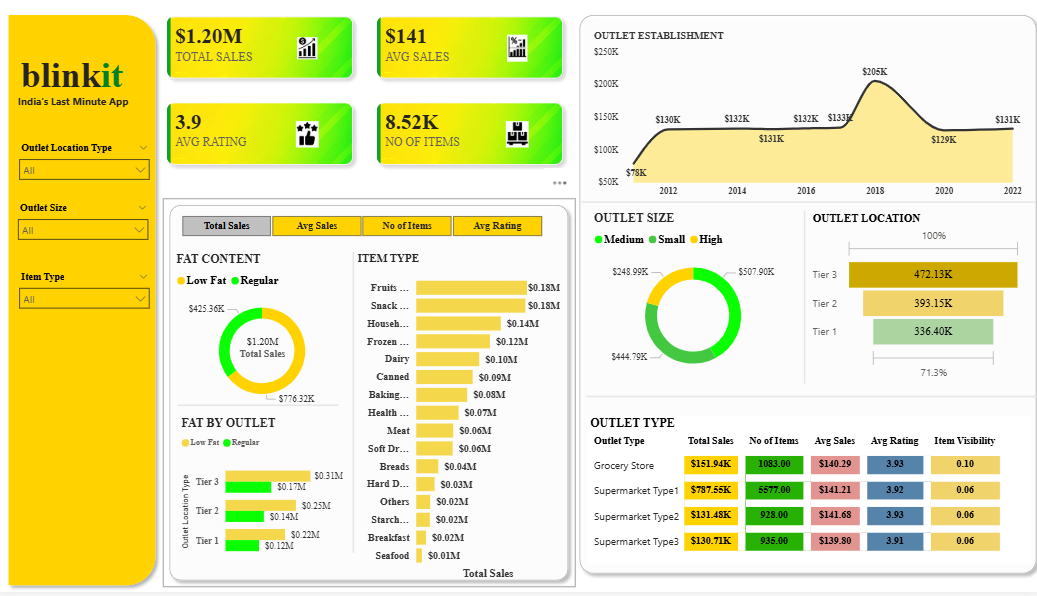

This screenshot's page, from the dashboard's own definition file:
{"tool":"powerbi","page":{"name":"Page 1","canvas":[1400,800],"ordinal":0},"visuals":[{"type":"shape","box":[10.7,21.4,214.5,778.8],"z":0},{"type":"textbox","box":[26.8,77.7,154.2,65.7],"z":1000},{"type":"textbox","box":[26.8,131.4,168.9,28.2],"z":2000},{"type":"cardVisual","fields":{"Data":["BlinkIT Grocery Data.Total Sales","BlinkIT Grocery Data.Avg Sales","BlinkIT Grocery Data.Avg Rating","BlinkIT Grocery Data.No of Items"]},"box":[202.4,2.7,587.1,256],"z":3000},{"type":"shape","box":[225.2,274.8,549.6,518.8],"z":4000},{"type":"donutChart","title":"FAT CONTENT","fields":{"Y":["BlinkIT Grocery Data.Total Sales"],"Category":["BlinkIT Grocery Data.Item Fat Content"]},"box":[238.6,347.2,238.6,214.5],"z":5000},{"type":"slicer","fields":{"Values":["Metrics.Metrics"]},"box":[225.2,290.9,529.5,38.9],"z":6000},{"type":"cardVisual","fields":{"Data":["BlinkIT Grocery Data.Total Sales"]},"box":[294.9,438.3,126,73.7],"z":7000},{"type":"clusteredBarChart","title":"FAT BY OUTLET","fields":{"Y":["BlinkIT Grocery Data.Total Sales"],"Category":["BlinkIT Grocery Data.Outlet Location Type"],"Series":["BlinkIT Grocery Data.Item Fat Content"]},"box":[245.3,564.3,225.2,202.4],"z":8000},{"type":"shape","box":[245.3,544.2,214.5,12.1],"z":9000},{"type":"shape","box":[473.2,347.2,12.1,406.2],"z":10000},{"type":"barChart","title":"ITEM TYPE","fields":{"Y":["BlinkIT Grocery Data.Total Sales"],"Category":["BlinkIT Grocery Data.Item Type"]},"box":[485.3,345.8,269.4,437],"z":11000},{"type":"shape","box":[772.1,21.4,627.3,762.7],"z":12000},{"type":"lineChart","title":"OUTLET ESTABLISHMENT","fields":{"Category":["BlinkIT Grocery Data.Outlet Establishment Year"],"Y":["BlinkIT Grocery Data.Total Sales"]},"box":[794.9,49.6,580.4,230.6],"z":13000},{"type":"shape","box":[789.5,533.5,604.6,12.1],"z":14000},{"type":"donutChart","title":"OUTLET SIZE","fields":{"Y":["BlinkIT Grocery Data.Total Sales"],"Category":["BlinkIT Grocery Data.Outlet Size"]},"box":[794.9,290.9,274.8,230.6],"z":15000},{"type":"shape","box":[1075.1,290.9,12.1,235.9],"z":16000},{"type":"funnel","title":"OUTLET LOCATION","fields":{"Category":["BlinkIT Grocery Data.Outlet Location Type"],"Y":["Sum(BlinkIT Grocery Data.Sales)"]},"box":[1087.1,293.6,288.2,227.9],"z":17000},{"type":"shape","box":[782.8,276.1,604.6,6.7],"z":18000},{"type":"pivotTable","title":"OUTLET TYPE","fields":{"Rows":["BlinkIT Grocery Data.Outlet Type"],"Values":["BlinkIT Grocery Data.Total Sales","BlinkIT Grocery Data.No of Items","BlinkIT Grocery Data.Avg Sales","BlinkIT Grocery Data.Avg Rating","Avg(BlinkIT Grocery Data.Item Visibility)"]},"box":[789.5,564.3,592.5,197.1],"z":19000},{"type":"slicer","fields":{"Values":["BlinkIT Grocery Data.Outlet Location Type"]},"box":[24.1,194.4,194.4,64.3],"z":20000},{"type":"slicer","fields":{"Values":["BlinkIT Grocery Data.Outlet Size"]},"box":[21.4,274.8,194.4,64.3],"z":21000},{"type":"slicer","fields":{"Values":["BlinkIT Grocery Data.Item Type"]},"box":[22.8,367.3,194.4,64.3],"z":22000}]}

Visuals, with their boxes in screenshot pixels (x1, y1, x2, y2), scaled from the page's 1400x800 canvas onto the 1037x596 screenshot:
shape: box=[8, 16, 167, 595]
textbox: box=[20, 58, 134, 107]
textbox: box=[20, 98, 145, 119]
cardVisual - BlinkIT Grocery Data.Total Sales x BlinkIT Grocery Data.Avg Sales: box=[150, 2, 585, 193]
shape: box=[167, 205, 574, 591]
"FAT CONTENT" donutChart: box=[177, 259, 353, 418]
slicer - Metrics.Metrics: box=[167, 217, 559, 246]
cardVisual - BlinkIT Grocery Data.Total Sales: box=[218, 327, 312, 381]
"FAT BY OUTLET" clusteredBarChart: box=[182, 420, 349, 571]
shape: box=[182, 405, 341, 414]
shape: box=[351, 259, 359, 561]
"ITEM TYPE" barChart: box=[359, 258, 559, 583]
shape: box=[572, 16, 1036, 584]
"OUTLET ESTABLISHMENT" lineChart: box=[589, 37, 1019, 209]
shape: box=[585, 397, 1033, 406]
"OUTLET SIZE" donutChart: box=[589, 217, 792, 389]
shape: box=[796, 217, 805, 392]
"OUTLET LOCATION" funnel: box=[805, 219, 1019, 389]
shape: box=[580, 206, 1028, 211]
"OUTLET TYPE" pivotTable: box=[585, 420, 1024, 567]
slicer - BlinkIT Grocery Data.Outlet Location Type: box=[18, 145, 162, 193]
slicer - BlinkIT Grocery Data.Outlet Size: box=[16, 205, 160, 253]
slicer - BlinkIT Grocery Data.Item Type: box=[17, 274, 161, 322]
